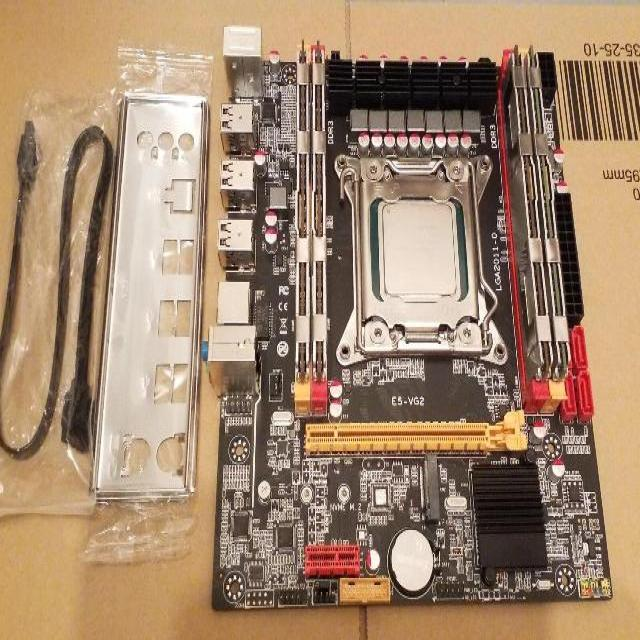CPU: (368, 194, 470, 306)
RAM: (499, 41, 555, 393), (310, 39, 328, 382), (294, 38, 310, 379)
